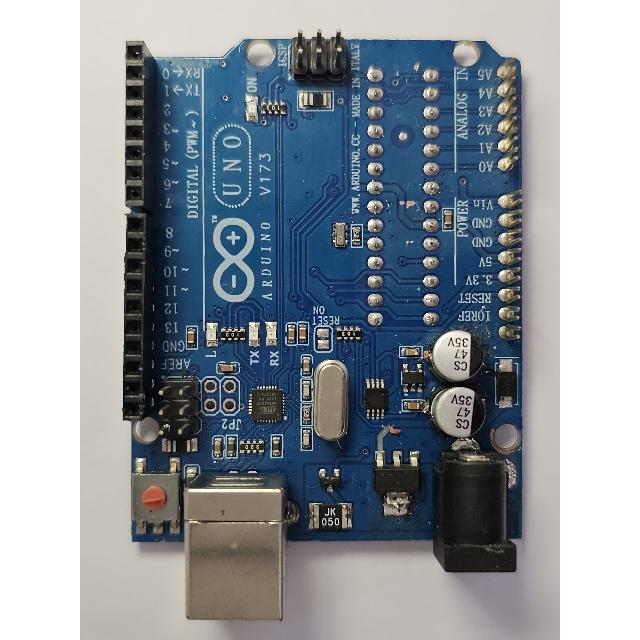missing_analog_pins: (494, 54, 525, 345)
missing_atmega: (362, 58, 445, 331)
